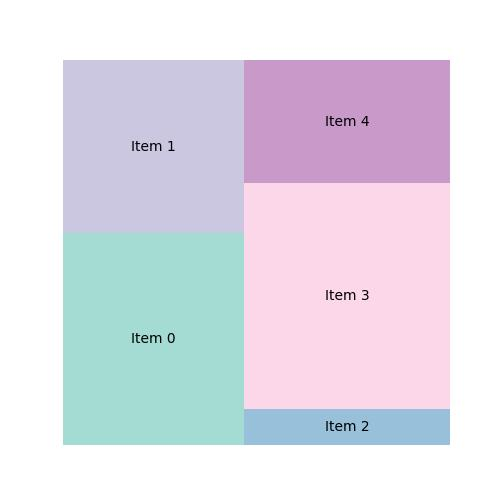rectangle: (244, 183, 450, 411), (62, 231, 245, 445), (62, 59, 243, 233), (244, 58, 451, 184), (244, 409, 451, 446)
